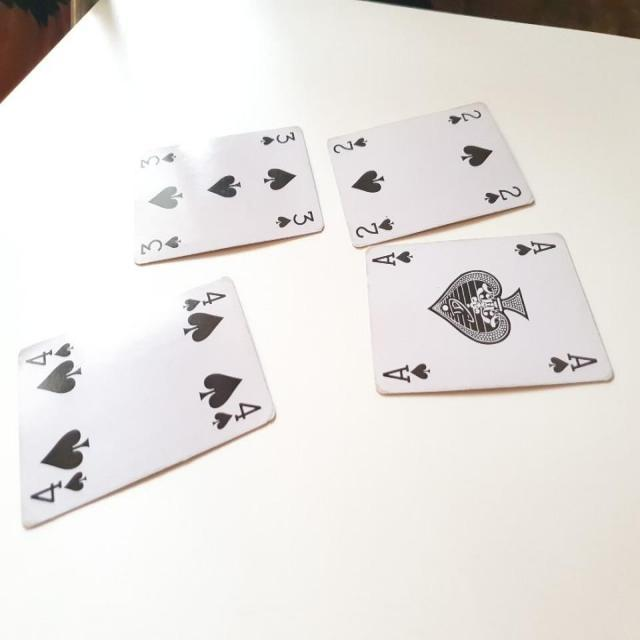2 of spades: (330, 97, 533, 245)
3 of spades: (132, 127, 325, 262)
4 of spades: (14, 280, 268, 511)
ace of spades: (364, 231, 616, 397)
